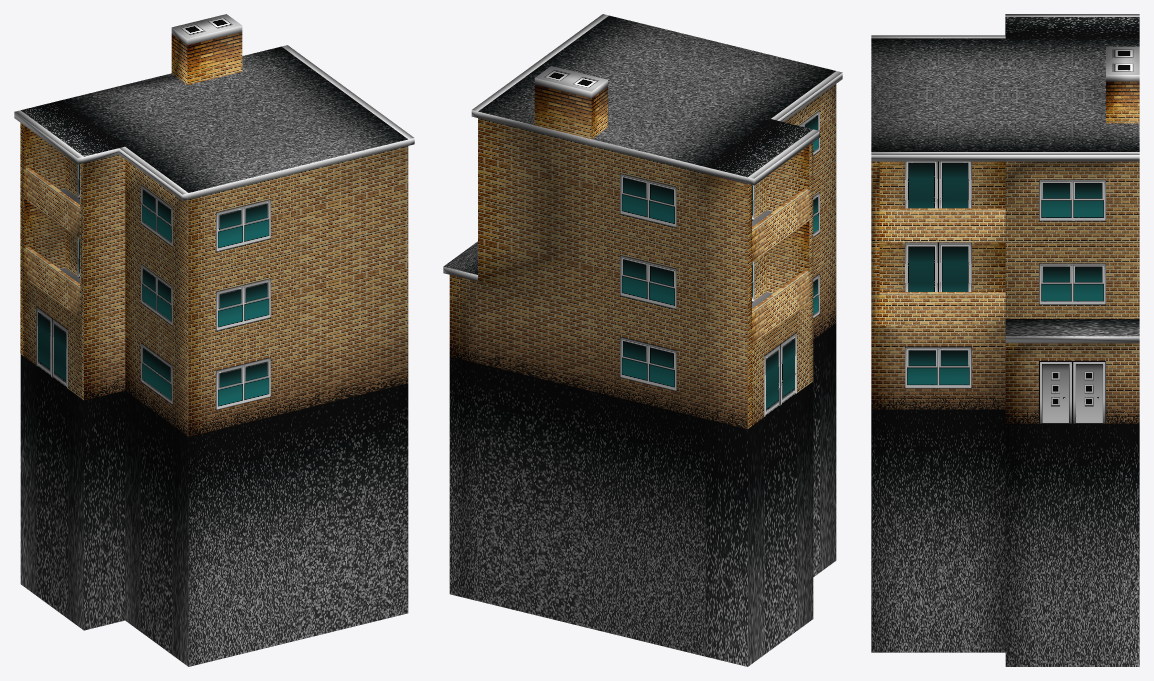
File: maisonet_mod3_1b.fbx
3 renders of one model, left to right at view 1: azimuth 30°, elevation 25°; view 2: azimuth 150°, elevation 25°; view 3: azimuth 270°, elevation 25°, orthographic. The views are drawn at different scales.
Visible parts, largest first — view 1: maisonet_mod3_1b; view 2: maisonet_mod3_1b; view 3: maisonet_mod3_1b.
Boxes of the visible parts, box(x1,y1,x2,y2) form: maisonet_mod3_1b: box(14, 14, 414, 666); maisonet_mod3_1b: box(443, 14, 842, 666); maisonet_mod3_1b: box(871, 14, 1139, 666).
Size of the model in its own units: 1231 by 2033 by 900.
